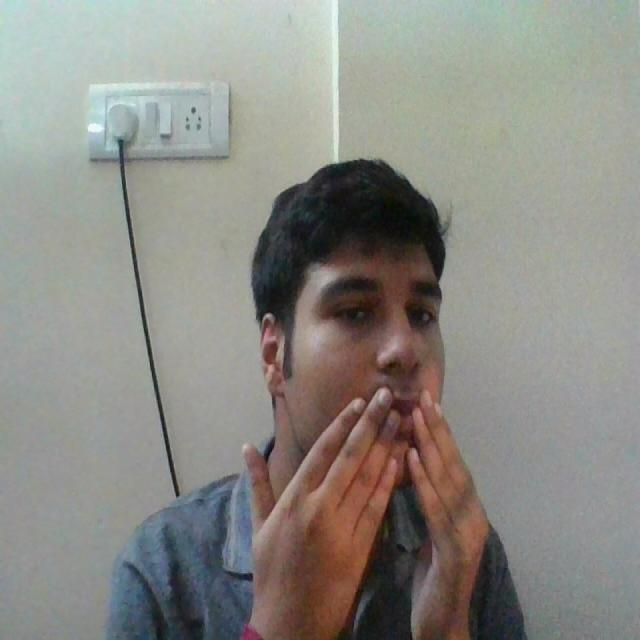Thanks: (211, 333, 582, 640)
